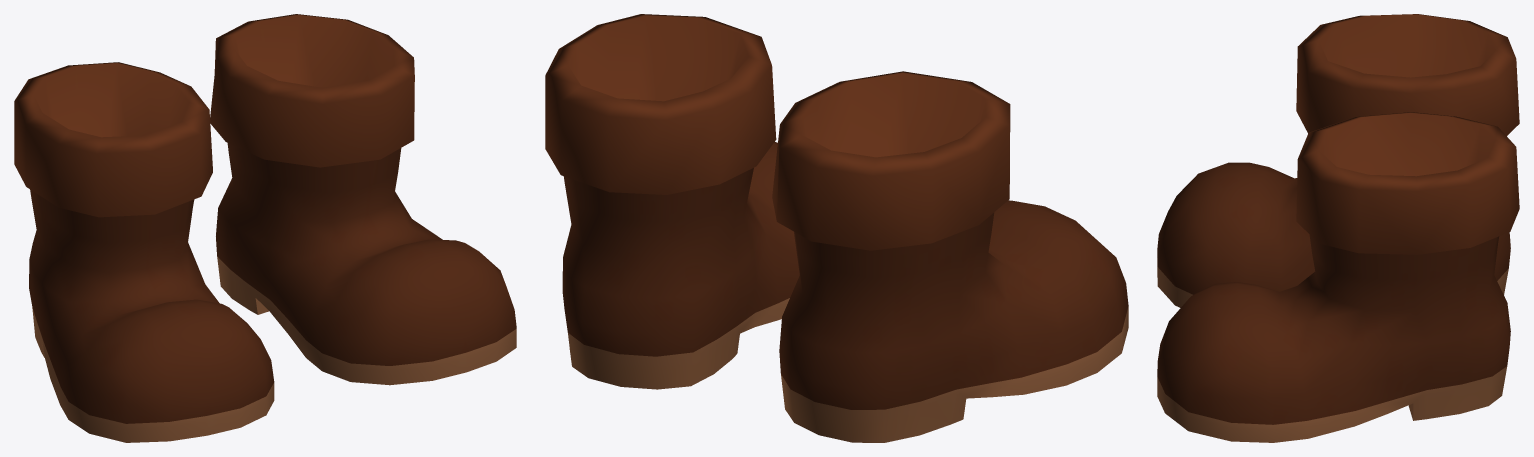
Rendered from ShoesKneeAntique0.glb.
The picture shows the model from 3 angles, left to right: view 1: azimuth 30°, elevation 25°; view 2: azimuth 150°, elevation 25°; view 3: azimuth 270°, elevation 25°; orthographic projection. The views are drawn at different scales.
Parts seen in each view (by area): view 1: Body__mShoes; view 2: Body__mShoes; view 3: Body__mShoes.
Part boxes in pixels (x1,y1,x2,y2): Body__mShoes: (14, 14, 516, 442); Body__mShoes: (545, 14, 1128, 442); Body__mShoes: (1157, 14, 1519, 442).
Size of the model in its own units: 3.57 by 1.98 by 2.65.
Materials: 1 (1 with a texture image).
